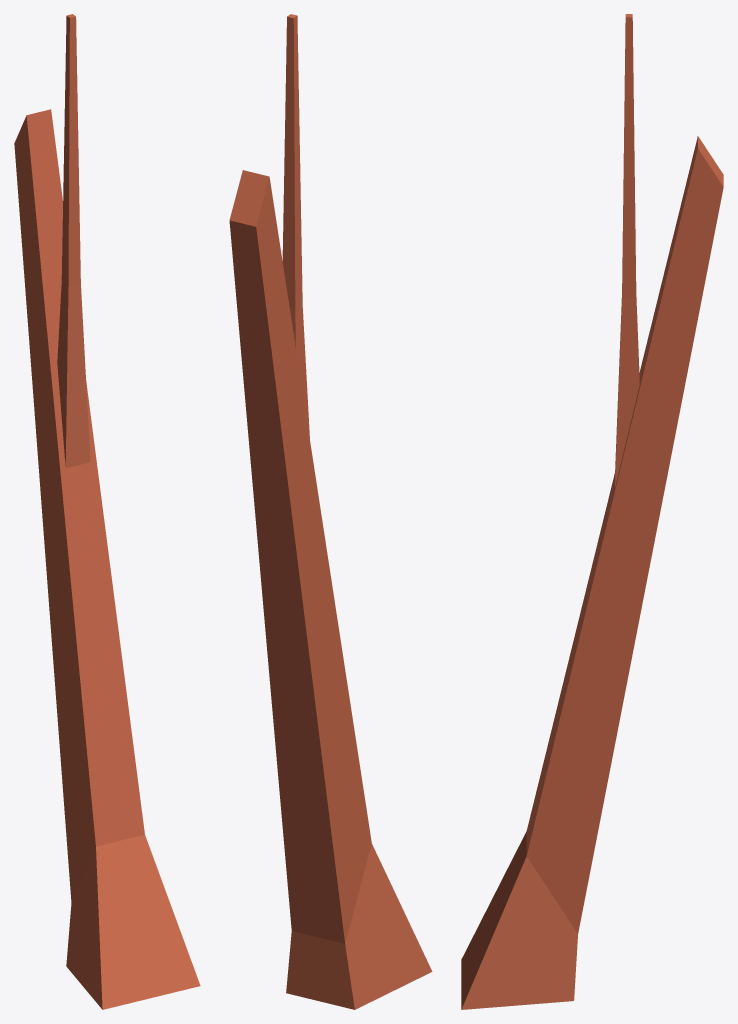
Rendered from branch.fbx.
The picture shows the model from 3 angles, left to right: view 1: azimuth 30°, elevation 25°; view 2: azimuth 150°, elevation 25°; view 3: azimuth 270°, elevation 25°; orthographic projection. The views are drawn at different scales.
Visible parts, largest first — view 1: tree_branchLongBend, tree_branchLong; view 2: tree_branchLongBend, tree_branchLong; view 3: tree_branchLongBend, tree_branchLong.
Part boxes in pixels (box(x1,y1,x2,y2)): tree_branchLongBend: box(14, 109, 200, 1009); tree_branchLong: box(57, 14, 90, 467); tree_branchLongBend: box(229, 170, 432, 1009); tree_branchLong: box(282, 14, 309, 438); tree_branchLongBend: box(461, 136, 723, 1009); tree_branchLong: box(615, 14, 639, 486).
Size of the model in its own units: 1.5 by 13.5 by 3.31.
